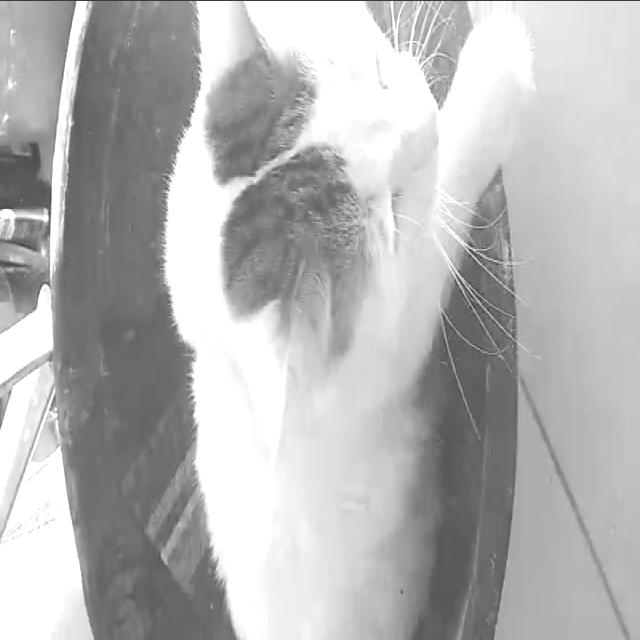Simba: (155, 2, 534, 616)
